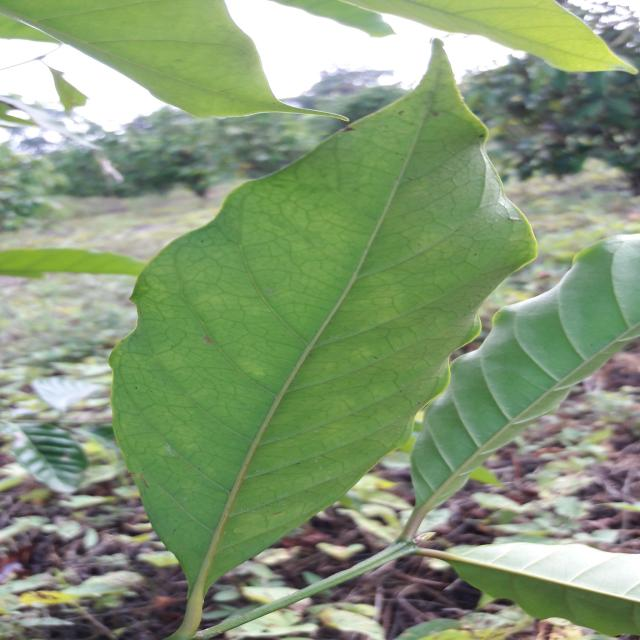Sanas: (108, 40, 539, 640)
